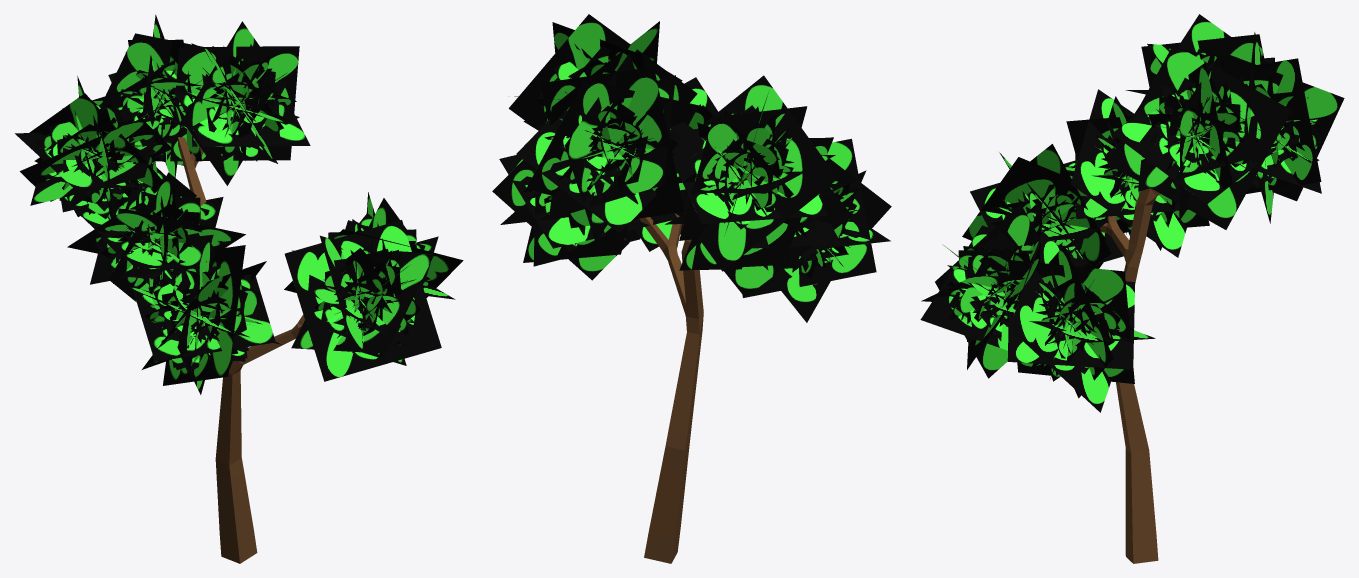
File: tree.glb
3 renders of one model, left to right at view 1: azimuth 30°, elevation 25°; view 2: azimuth 150°, elevation 25°; view 3: azimuth 270°, elevation 25°, orthographic. The views are drawn at different scales.
Visible parts, largest first — view 1: Plane.001, Plane; view 2: Plane.001, Plane; view 3: Plane.001, Plane.
Part boxes in pixels (x1,y1,x2,y2): Plane.001: [15, 14, 463, 394]; Plane: [178, 137, 304, 563]; Plane.001: [492, 14, 891, 322]; Plane: [639, 213, 703, 563]; Plane.001: [920, 14, 1344, 412]; Plane: [1100, 188, 1160, 563].
Bounding box in the file's own units: 11.93 × 15.85 × 11.84.
Materials: 2 (2 with a texture image).
